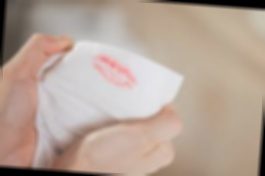lipstick: (87, 52, 141, 97)
